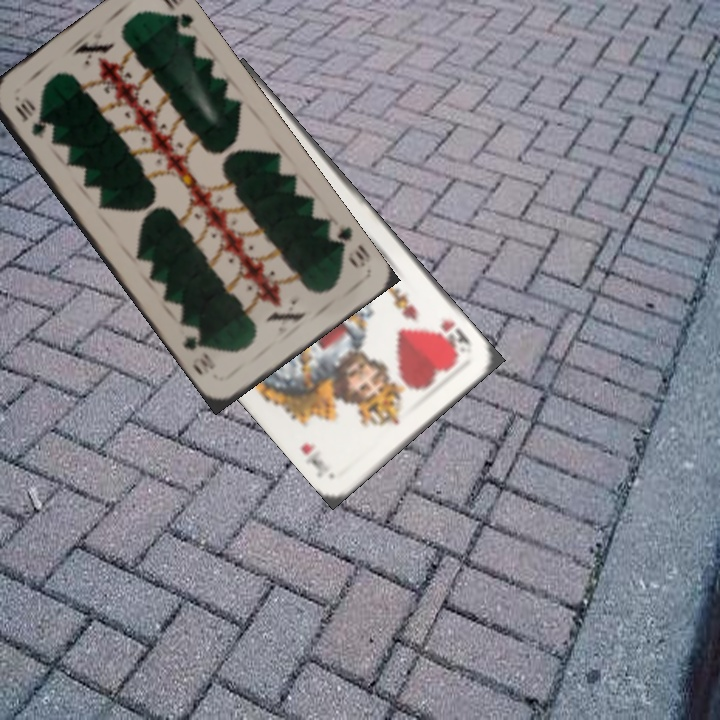G10: (323, 222, 374, 271), (10, 96, 48, 142)
HK: (435, 315, 475, 358)
